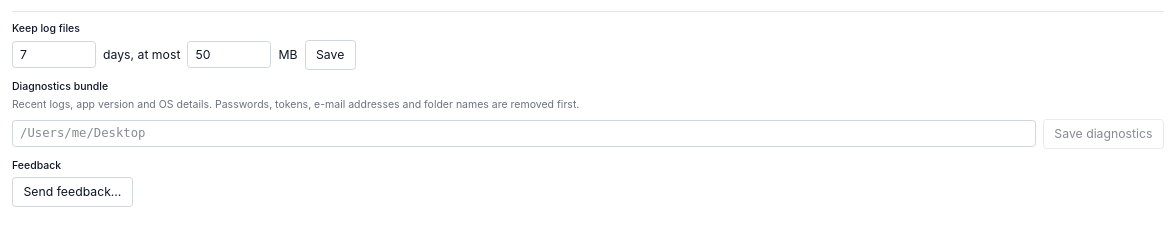
diagnostics section › loads and saves the retention
Replace the text in the number field named "Days to keep logs" with "30" at {"x": 54, "y": 55}, box [12,41,96,68]
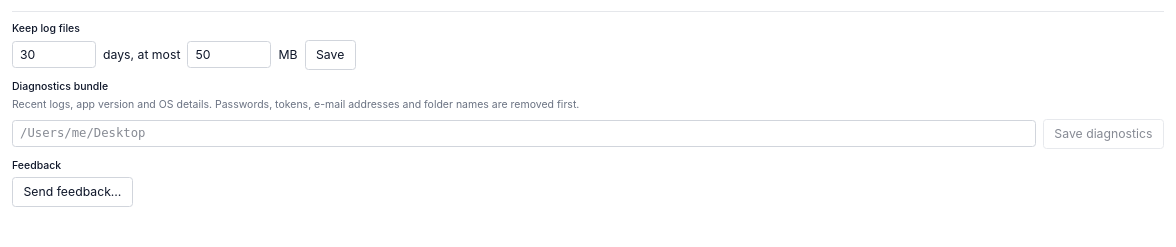
Replace the text in the number field named "Maximum log size in MB" with "0" at {"x": 229, "y": 55}, box [187,41,271,68]
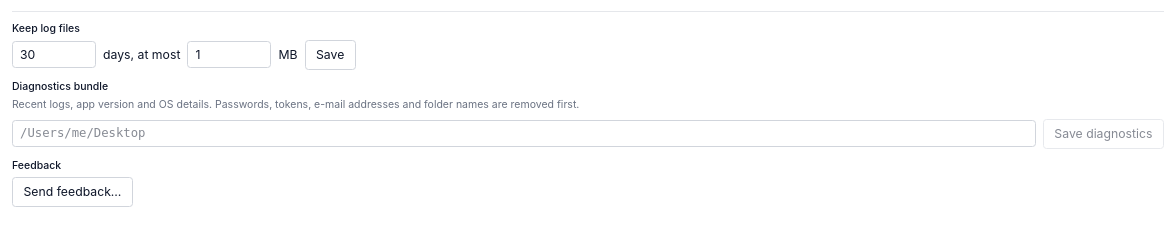
Click the button "Save" at {"x": 330, "y": 54}, box [304,40,356,70]
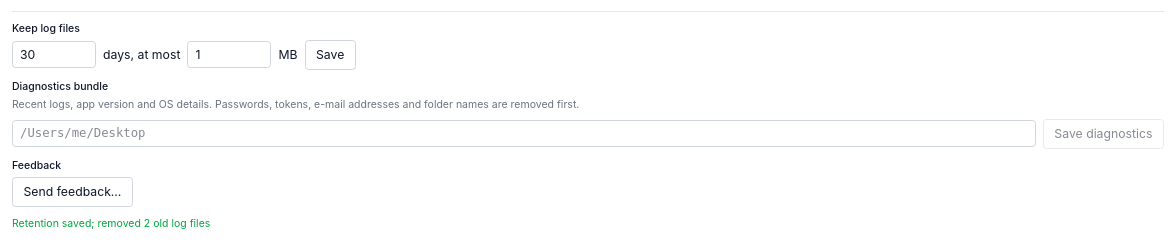
expect the text "Retention saved; removed 2 old log files" is shown: met, box [12,217,210,230]
